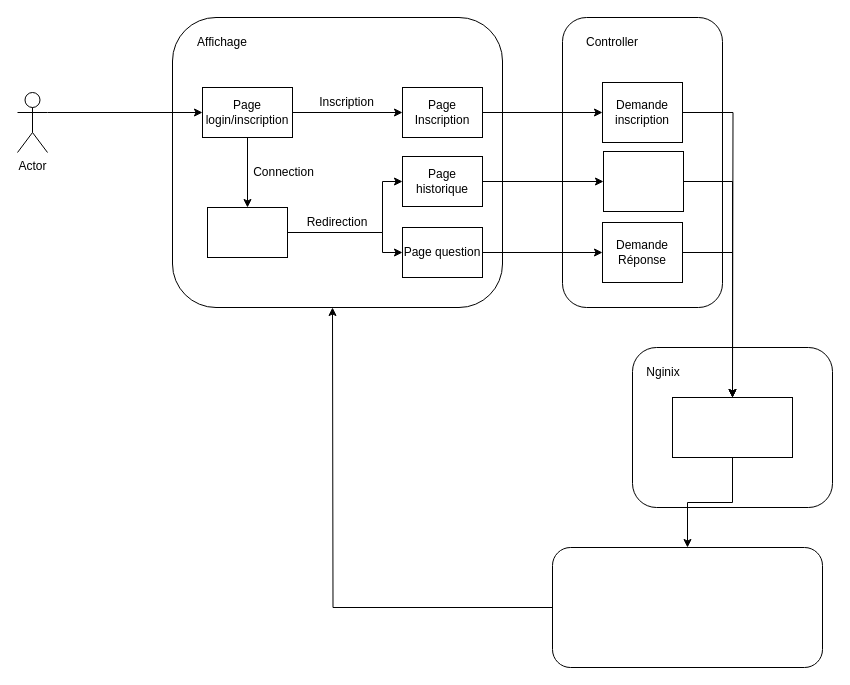
This 850x685 diagram has some shape labels left out. The box of each missing label's shape, as (x1, y1, x2, y2) in pixels:
Base de données: (552, 546, 822, 668)
Demande historique: (602, 150, 684, 212)
Page Principale: (206, 206, 288, 258)
